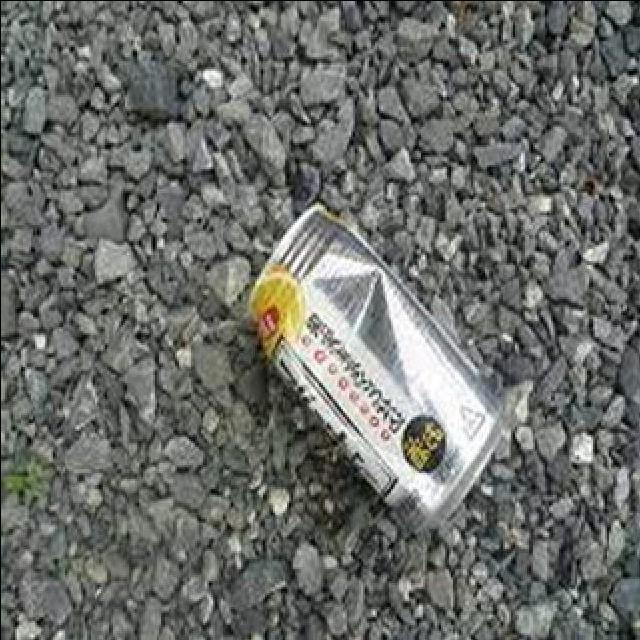can: (248, 202, 512, 538)
